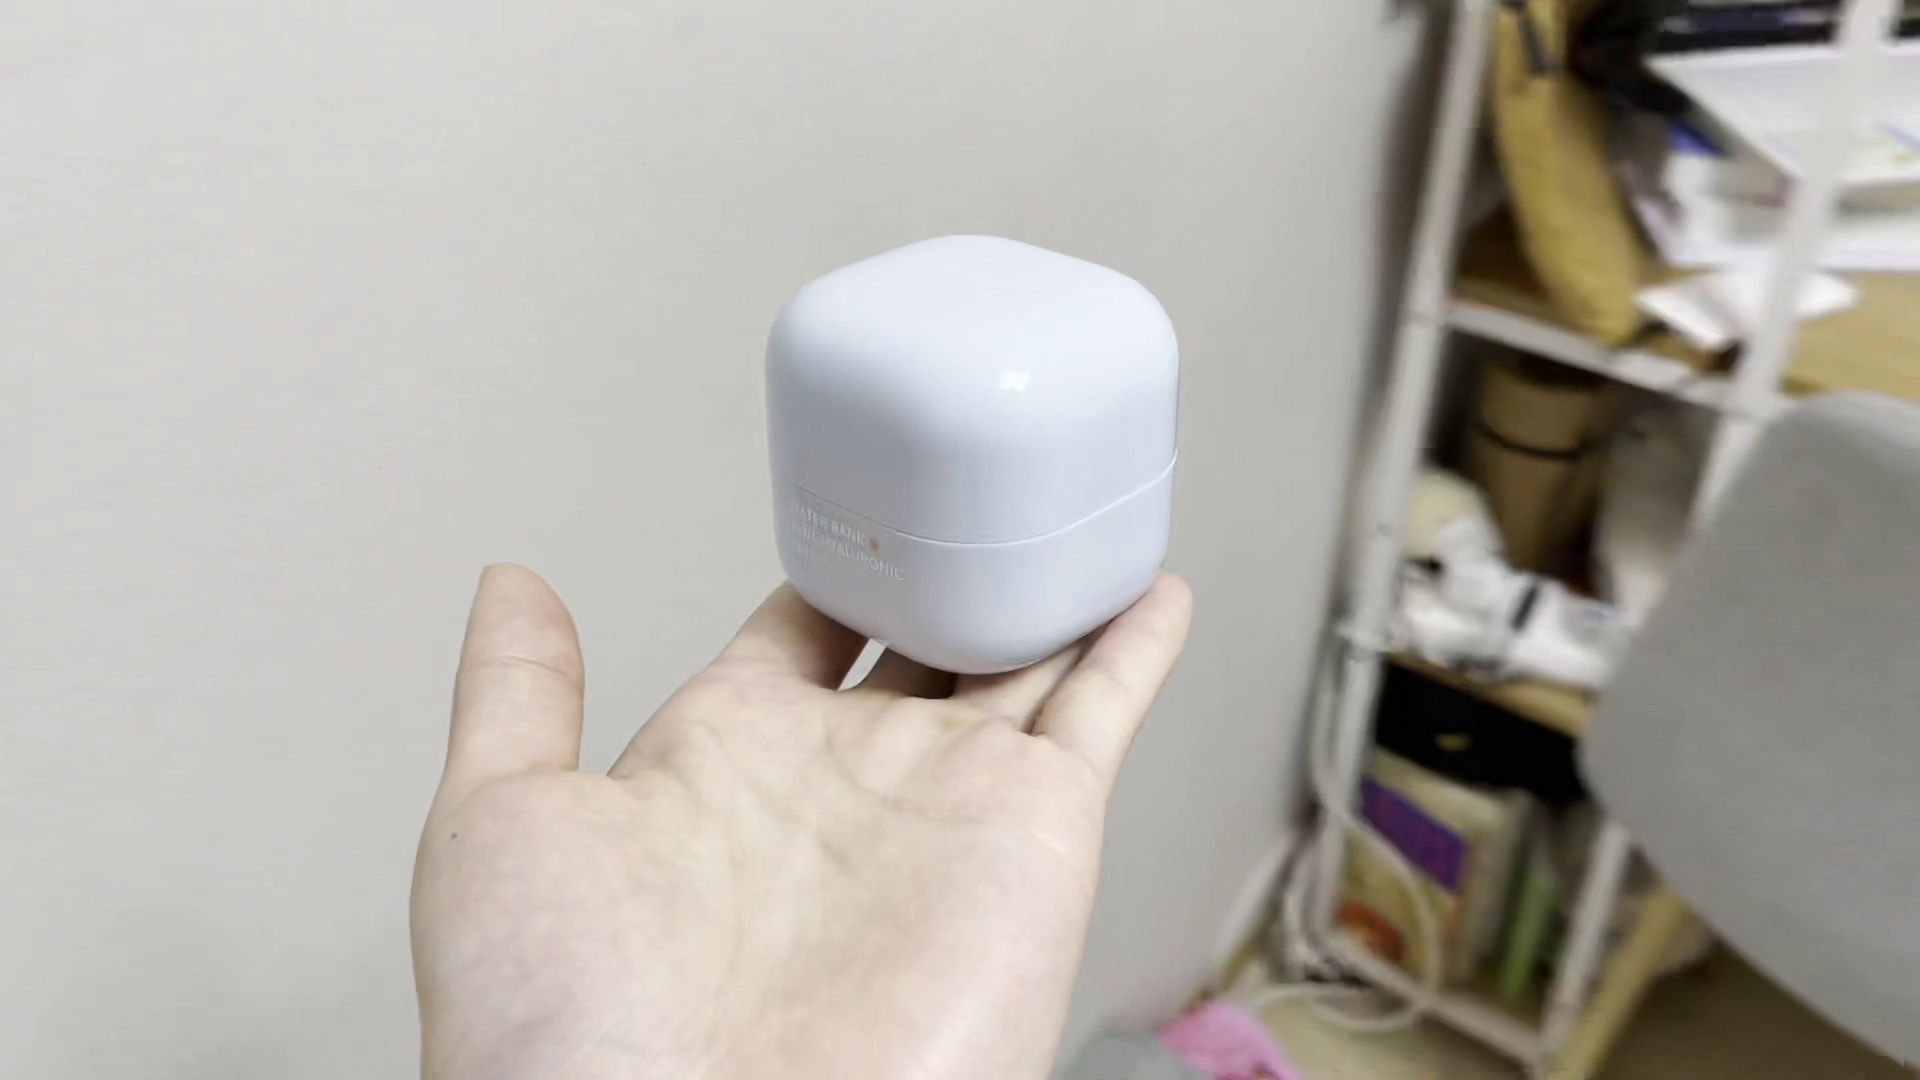cream: (760, 232, 1178, 676)
